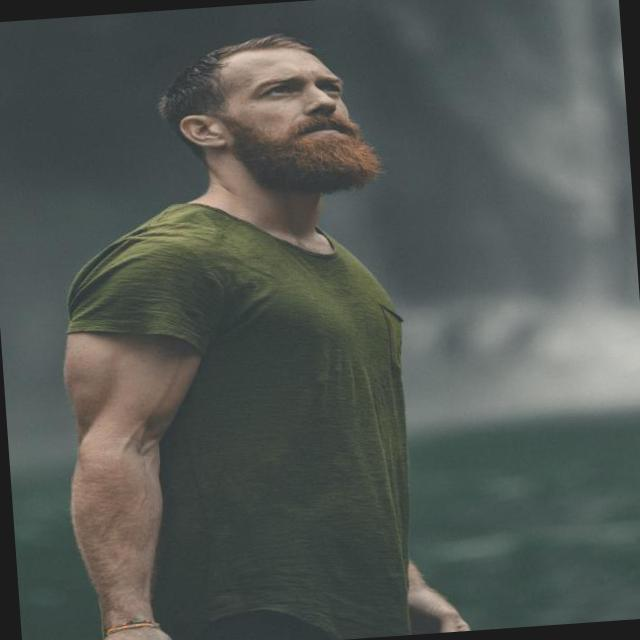person: (37, 21, 470, 640)
